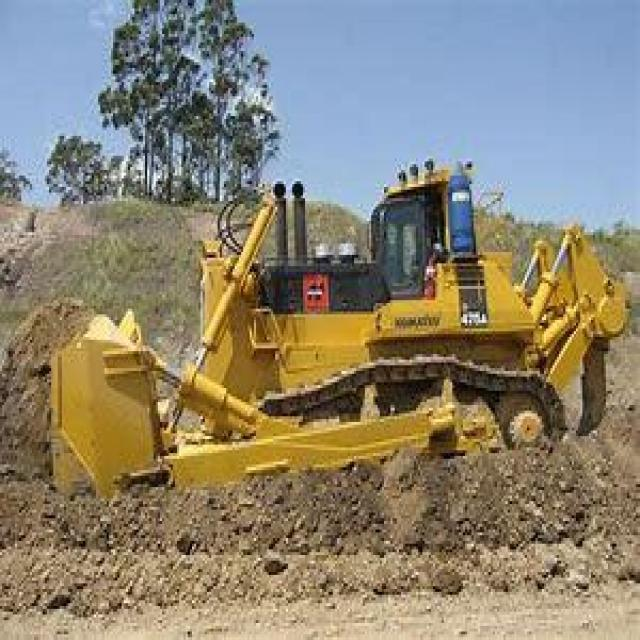Bulldozer: (13, 133, 638, 564)
